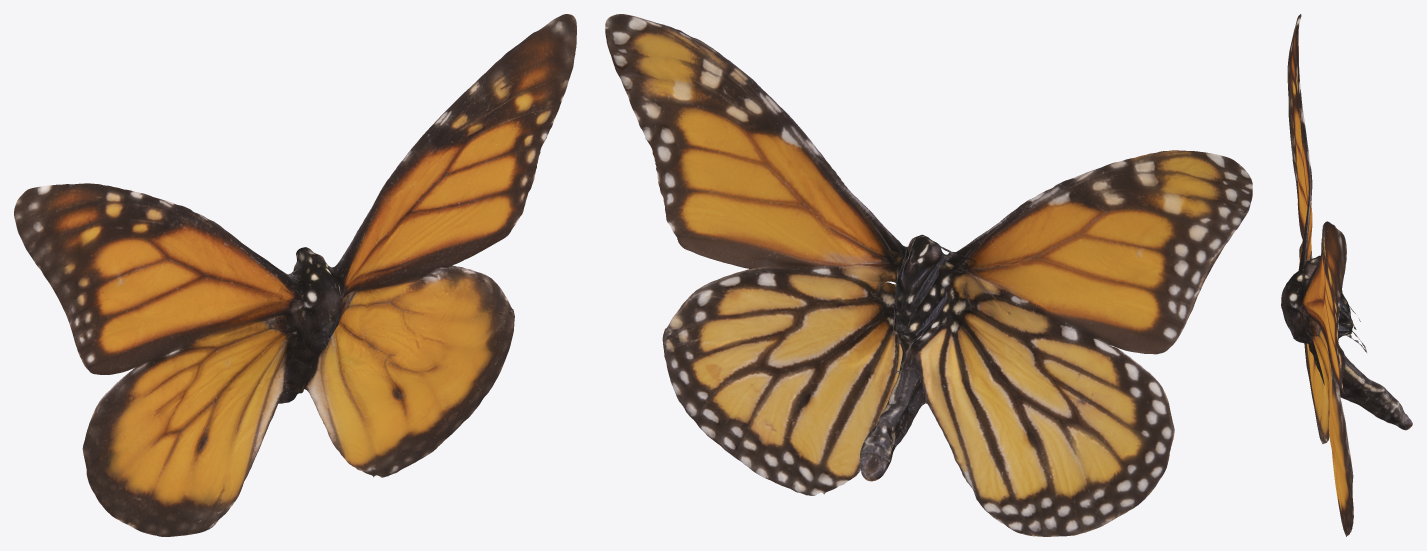
The model's file is monarch_butterfly.glb.
3 views of the same model, side by side, from view 1: azimuth 30°, elevation 25°; view 2: azimuth 150°, elevation 25°; view 3: azimuth 270°, elevation 25° (orthographic). The views are drawn at different scales.
Visible parts, largest first — view 1: Object_3, Object_2, Object_4; view 2: Object_2, Object_4, Object_3; view 3: Object_3, Object_2, Object_4.
Part boxes in pixels (left/top/right/bottom): Object_3: left=14, top=183, right=514, bottom=531; Object_2: left=277, top=14, right=576, bottom=403; Object_4: left=14, top=16, right=576, bottom=536; Object_2: left=605, top=14, right=1124, bottom=510; Object_4: left=605, top=16, right=1252, bottom=536; Object_3: left=662, top=156, right=1248, bottom=501; Object_3: left=1281, top=14, right=1412, bottom=536; Object_2: left=1282, top=192, right=1378, bottom=448; Object_4: left=1283, top=14, right=1364, bottom=533.
Bounding box in the file's own units: 2.91 × 1.96 × 0.6397.
Materials: 1 (1 with a texture image).
